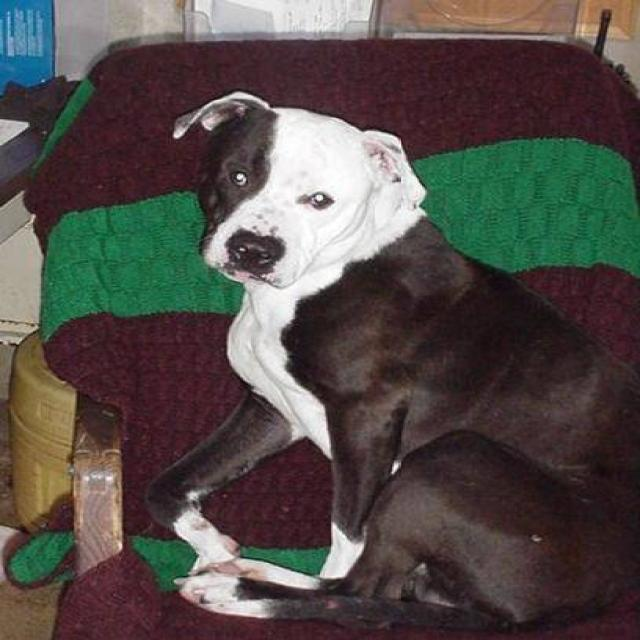dog: (143, 89, 638, 634)
